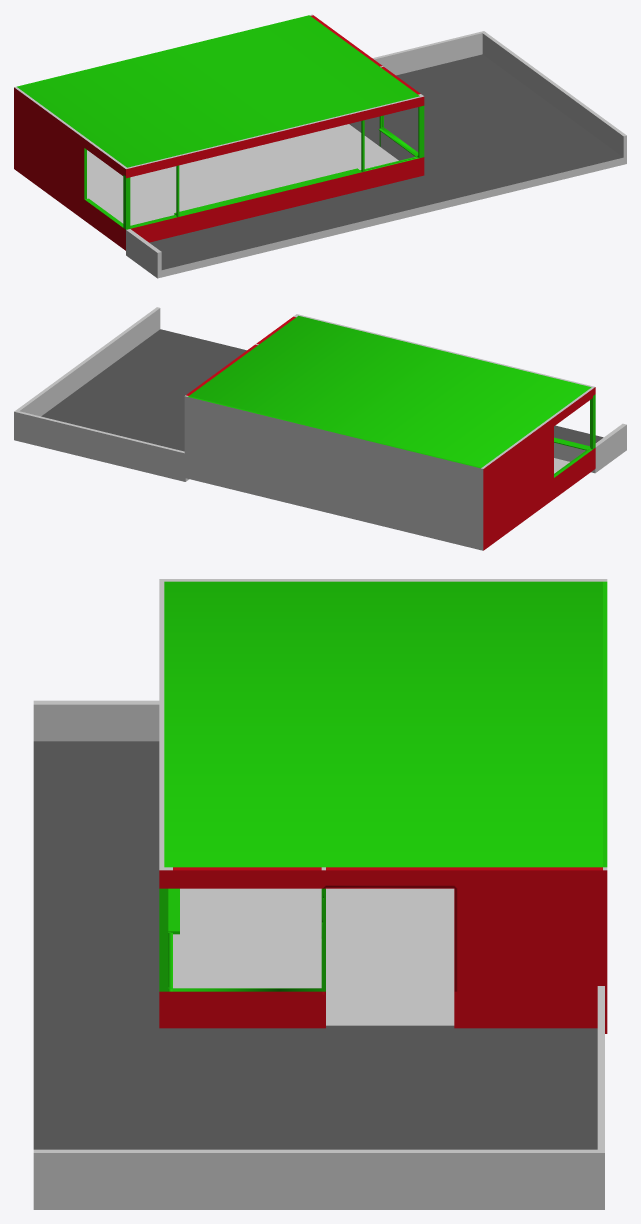
Rendered from admin.fbx.
The picture shows the model from 3 angles, top to bottom: view 1: azimuth 30°, elevation 25°; view 2: azimuth 150°, elevation 25°; view 3: azimuth 270°, elevation 25°; orthographic projection. The views are drawn at different scales.
Parts seen in each view (by area): view 1: 5STENA2.004; view 2: 5STENA2.004; view 3: 5STENA2.004.
Boxes of the visible parts, x1,y1,x2,y2 form: 5STENA2.004: [14, 14, 626, 278]; 5STENA2.004: [14, 307, 626, 550]; 5STENA2.004: [33, 579, 607, 1209].
Size of the model in its own units: 596 by 105 by 316.
